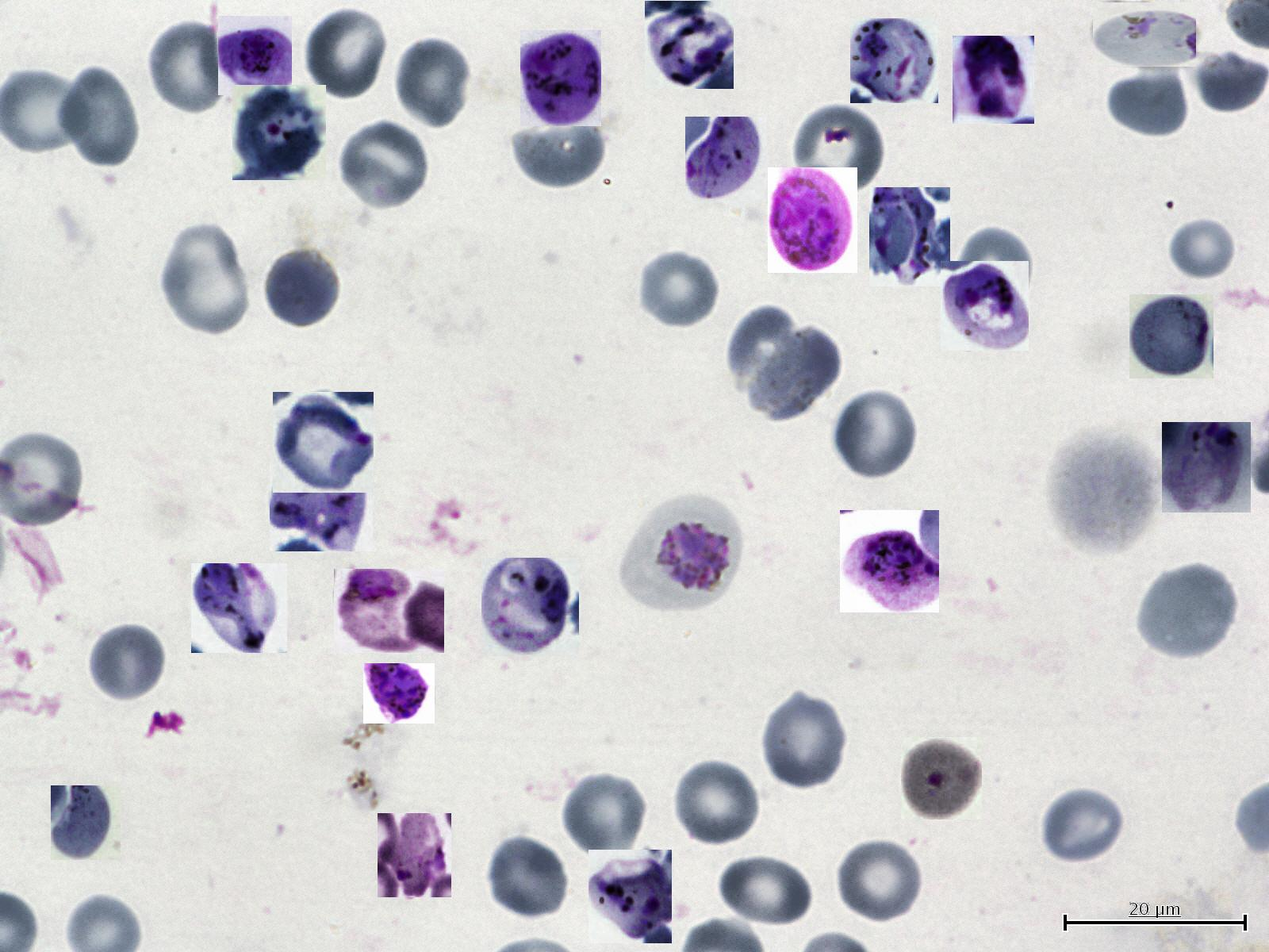Infected: (622, 497, 742, 611), (270, 451, 374, 552), (273, 392, 374, 493), (840, 510, 939, 612), (481, 558, 579, 656), (768, 167, 857, 273), (334, 569, 444, 653), (232, 85, 326, 180), (191, 564, 287, 654), (869, 187, 950, 286), (1162, 422, 1251, 512), (941, 261, 1029, 351), (588, 850, 672, 943), (520, 30, 601, 126), (646, 1, 734, 89), (850, 18, 938, 103), (953, 36, 1034, 124), (1129, 294, 1213, 378), (686, 117, 768, 202), (901, 737, 982, 820), (1093, 2, 1196, 67), (378, 813, 451, 897), (218, 16, 292, 95), (51, 785, 121, 860), (363, 663, 435, 724)
Uninfected: (159, 226, 252, 339), (1134, 561, 1238, 661), (759, 692, 848, 792), (747, 327, 842, 420), (792, 104, 884, 199), (830, 386, 921, 482), (337, 119, 429, 212), (58, 68, 140, 171), (303, 5, 389, 101), (672, 758, 761, 847), (147, 19, 229, 115), (511, 108, 607, 190), (835, 835, 923, 924), (561, 771, 648, 859), (719, 853, 815, 931), (393, 36, 473, 129), (485, 835, 569, 921), (636, 249, 719, 329), (262, 248, 342, 331), (1039, 788, 1124, 866), (88, 621, 167, 704), (1104, 67, 1188, 140), (1160, 210, 1235, 281), (1188, 51, 1268, 117)
